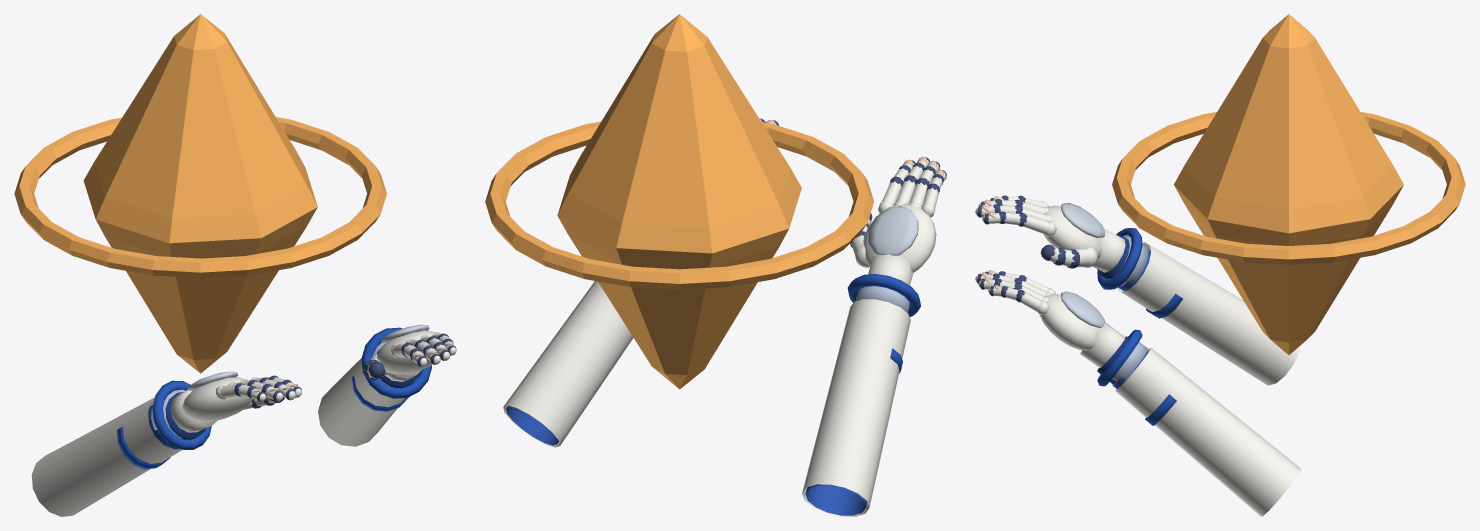
The model's file is Maos_Centro.fbx.
3 views of the same model, side by side, from view 1: azimuth 30°, elevation 25°; view 2: azimuth 150°, elevation 25°; view 3: azimuth 270°, elevation 25° (orthographic). The views are drawn at different scales.
Visible parts, largest first — view 1: Marcador_Objetivo, Luva_Traje_D, Luva_Traje_E, Mao_Nua_D; view 2: Marcador_Objetivo, Luva_Traje_D, Luva_Traje_E, Mao_Nua_D, Mao_Nua_E; view 3: Marcador_Objetivo, Luva_Traje_E, Luva_Traje_D, Mao_Nua_D.
Boxes of the visible parts, x1,y1,x2,y2 form: Marcador_Objetivo: (14, 14, 386, 373); Luva_Traje_D: (31, 371, 301, 516); Luva_Traje_E: (318, 324, 456, 446); Mao_Nua_D: (148, 384, 298, 449); Marcador_Objetivo: (485, 14, 873, 389); Luva_Traje_D: (802, 157, 946, 516); Luva_Traje_E: (503, 118, 778, 447); Mao_Nua_D: (805, 156, 943, 515); Mao_Nua_E: (506, 118, 774, 445); Marcador_Objetivo: (1112, 14, 1465, 354); Luva_Traje_E: (975, 271, 1301, 516); Luva_Traje_D: (975, 195, 1300, 385); Mao_Nua_D: (982, 196, 1150, 290).
Size of the model in its own units: 72.74 by 91.52 by 93.74.
